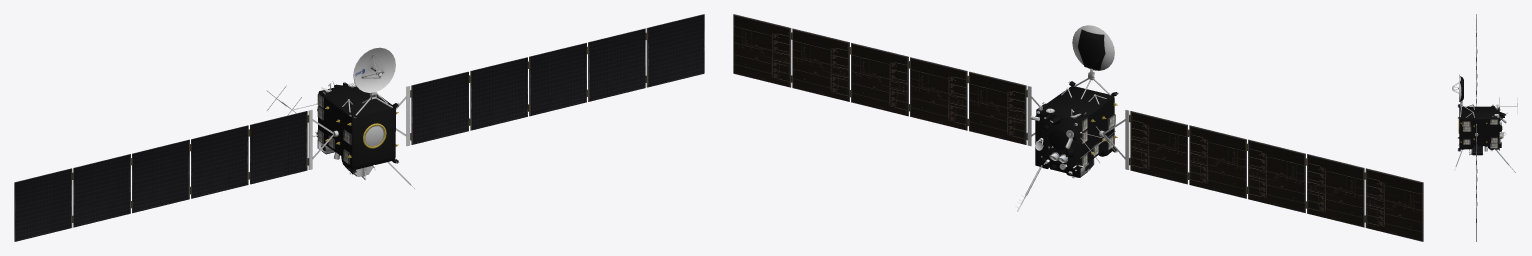
Rendered from Rosetta.dae.
The picture shows the model from 3 angles, left to right: view 1: azimuth 30°, elevation 25°; view 2: azimuth 150°, elevation 25°; view 3: azimuth 270°, elevation 25°; orthographic projection. The views are drawn at different scales.
Parts seen in each view (by area): view 1: panels_02, panels_01, black_krinkle, dish, vents, foil_silver; view 2: panels_02, panels_01, black_krinkle, dish, vents; view 3: black_krinkle, dish, vents, panels_01, panels_02, vents_004, foil_gold.
Boxes of the visible parts, x1,y1,x2,y2 form: panels_02: (14, 109, 338, 241); panels_01: (396, 14, 704, 146); black_krinkle: (316, 82, 398, 174); dish: (266, 47, 415, 188); vents: (317, 94, 351, 164); foil_silver: (318, 126, 383, 153); panels_02: (1099, 109, 1423, 241); panels_01: (733, 14, 1039, 146); black_krinkle: (1035, 29, 1117, 177); dish: (1015, 25, 1118, 211); vents: (1081, 114, 1115, 166); black_krinkle: (1458, 76, 1505, 150); dish: (1452, 74, 1517, 172); vents: (1462, 119, 1498, 148); panels_01: (1475, 124, 1478, 241); panels_02: (1476, 14, 1477, 106); vents_004: (1472, 146, 1482, 155); foil_gold: (1458, 119, 1487, 142).
Size of the model in its own units: 31.96 by 4.55 by 6.92.
Materials: 10 (7 with a texture image).
